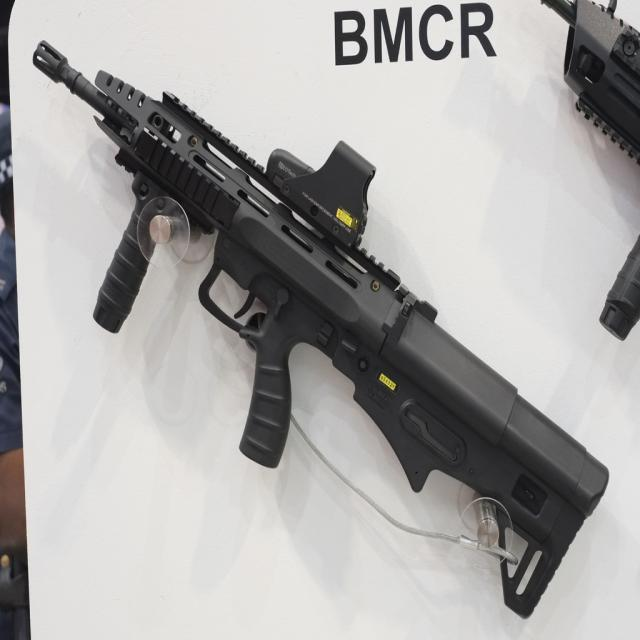weapon: (31, 39, 612, 618), (540, 0, 640, 341)
